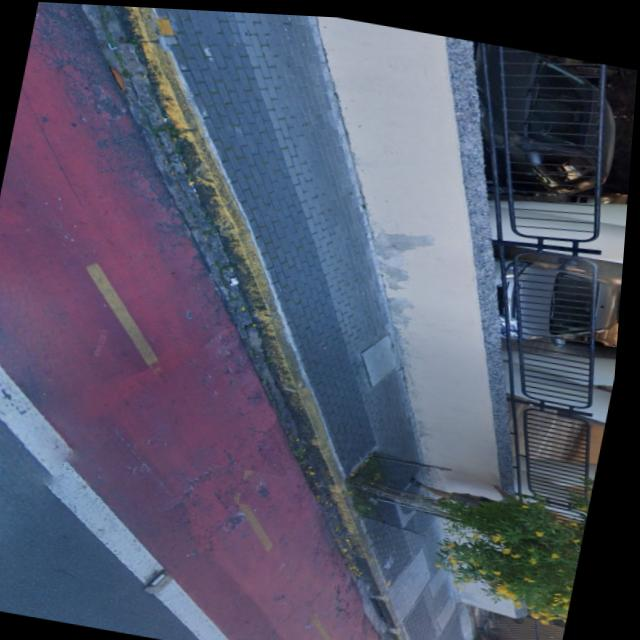Buraco: (152, 451, 233, 528), (207, 497, 272, 552), (244, 466, 293, 506)
